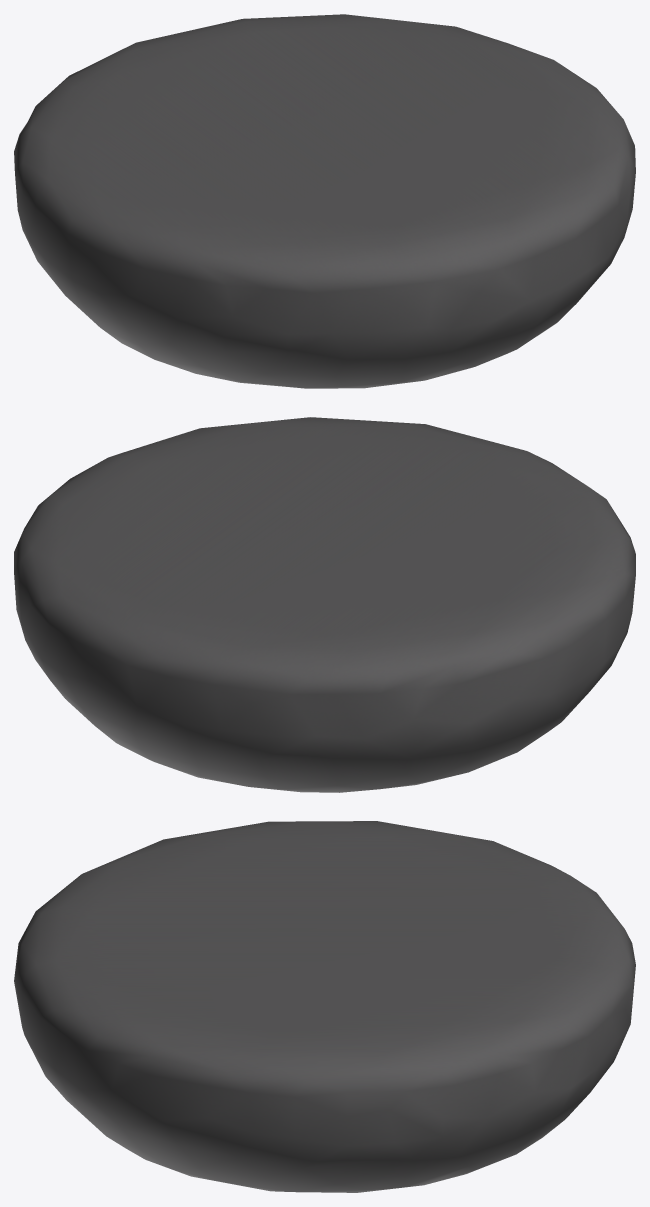
File: ShowRoom.FBX
3 renders of one model, top to bottom at view 1: azimuth 30°, elevation 25°; view 2: azimuth 150°, elevation 25°; view 3: azimuth 270°, elevation 25°, orthographic.
Visible parts, largest first — view 1: ShowRoom; view 2: ShowRoom; view 3: ShowRoom.
Boxes of the visible parts, x1=… form: ShowRoom: x1=14, y1=14, x2=635, y2=388; ShowRoom: x1=14, y1=417, x2=635, y2=792; ShowRoom: x1=14, y1=821, x2=635, y2=1192.
Size of the model in its own units: 406 by 124 by 407.
Materials: 1 (1 with a texture image).
